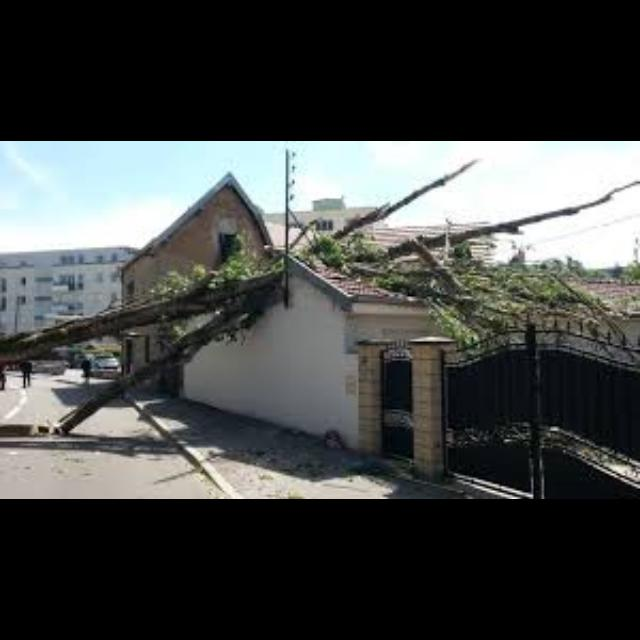Fallen Tree: (2, 156, 480, 434), (2, 180, 640, 362)
